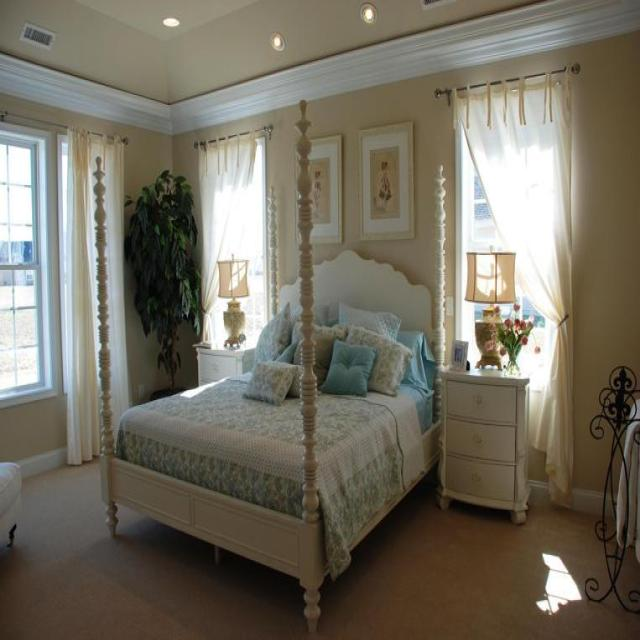bed: (91, 98, 447, 632)
cupboard: (435, 365, 531, 524)
curtains: (451, 67, 574, 505), (63, 125, 130, 465)
plants: (122, 168, 203, 392)
sofa: (0, 460, 23, 549)
table-lamp: (464, 245, 516, 370), (217, 252, 249, 348)
windows: (194, 129, 268, 350), (0, 123, 56, 405)
